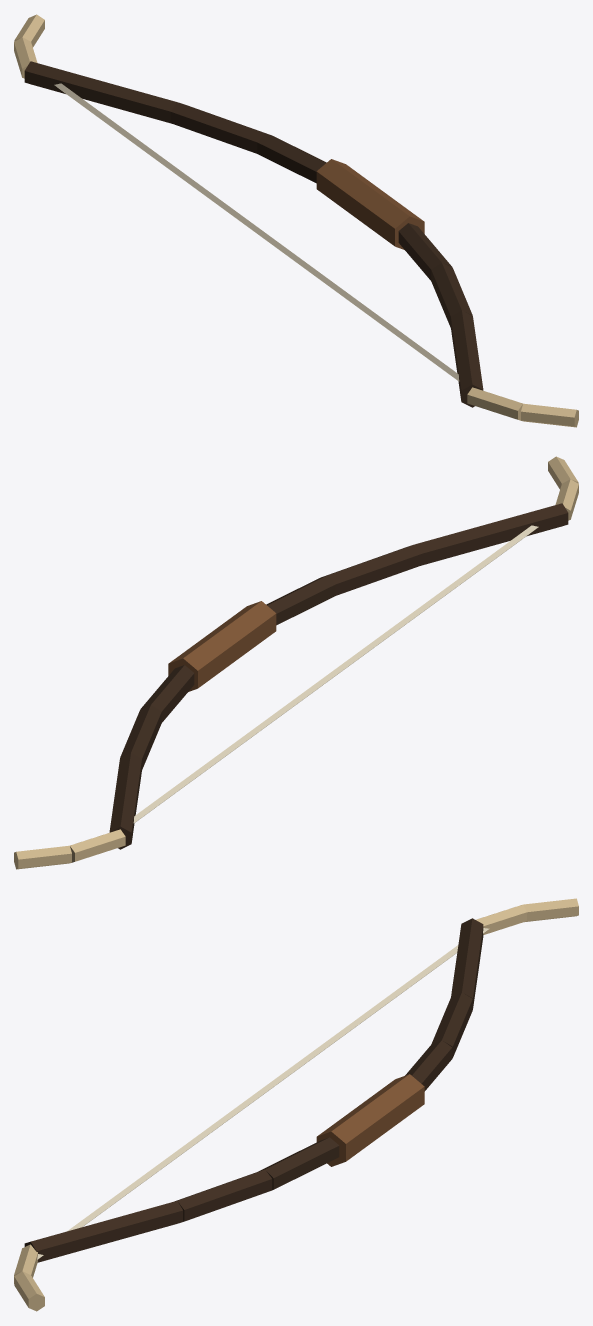
File: Composite_Bow.gltf
3 renders of one model, top to bottom at view 1: azimuth 30°, elevation 25°; view 2: azimuth 150°, elevation 25°; view 3: azimuth 330°, elevation 25°, orthographic.
Visible parts, largest first — view 1: Cylinder; view 2: Cylinder; view 3: Cylinder.
Part boxes in pixels (bbox=[...]): Cylinder: bbox=[14, 14, 578, 427]; Cylinder: bbox=[14, 456, 578, 869]; Cylinder: bbox=[14, 898, 578, 1311].
Bounding box in the file's own units: 0.1674 × 0.04 × 1.11.
